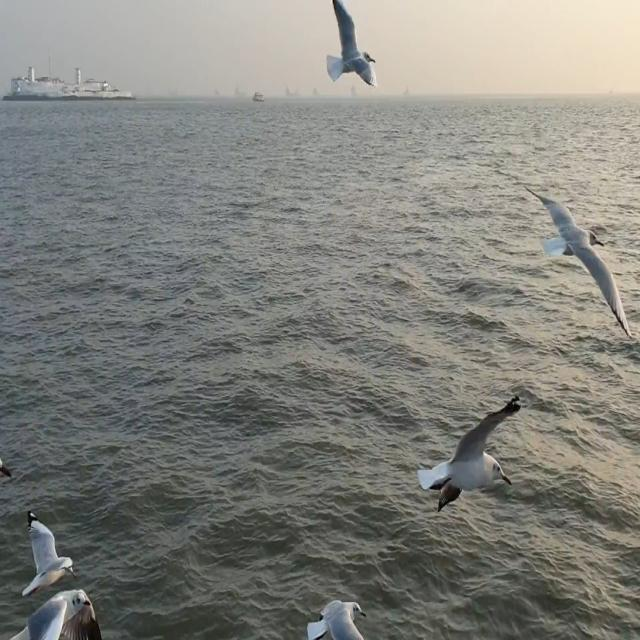bird: (522, 178, 634, 348), (414, 393, 522, 514), (316, 0, 378, 96), (18, 498, 76, 594), (8, 586, 106, 640), (297, 586, 367, 640)
